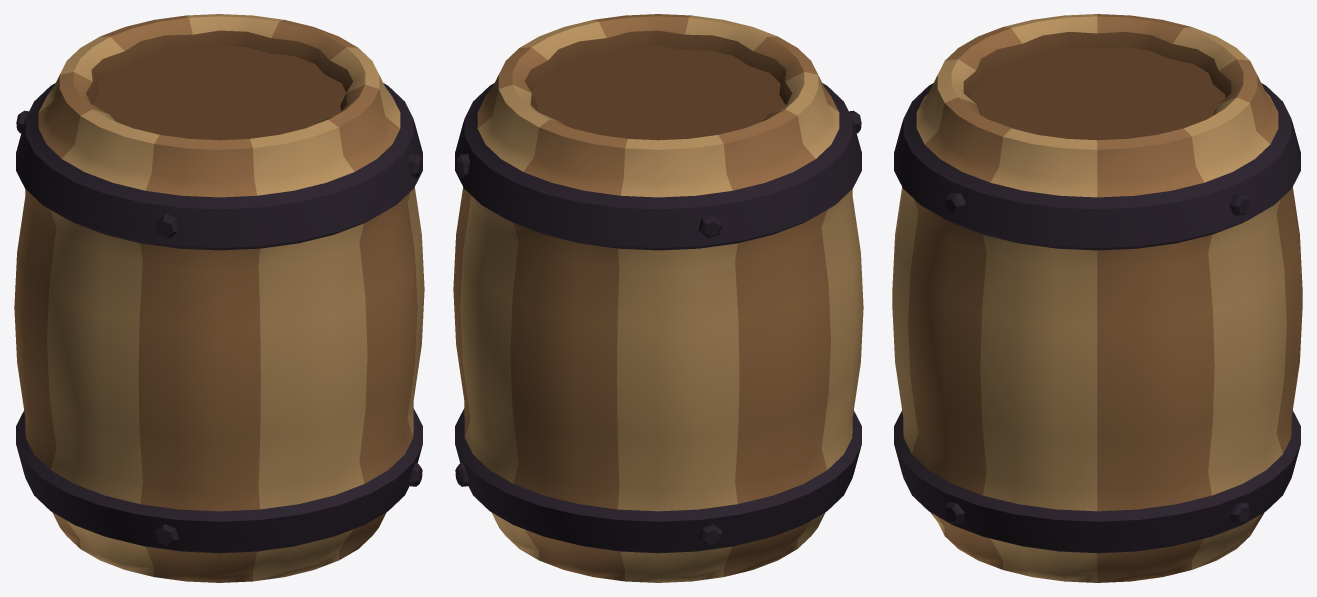
File: Barrel_10.glb
The picture shows the model from 3 angles, left to right: view 1: azimuth 30°, elevation 25°; view 2: azimuth 150°, elevation 25°; view 3: azimuth 270°, elevation 25°; orthographic projection.
Parts seen in each view (by area): view 1: Barrel_10; view 2: Barrel_10; view 3: Barrel_10.
Part boxes in pixels (x1,y1,x2,y2): Barrel_10: (14, 14, 424, 582); Barrel_10: (453, 14, 863, 582); Barrel_10: (892, 14, 1302, 582).
Size of the model in its own units: 2.03 by 2.41 by 2.04.
